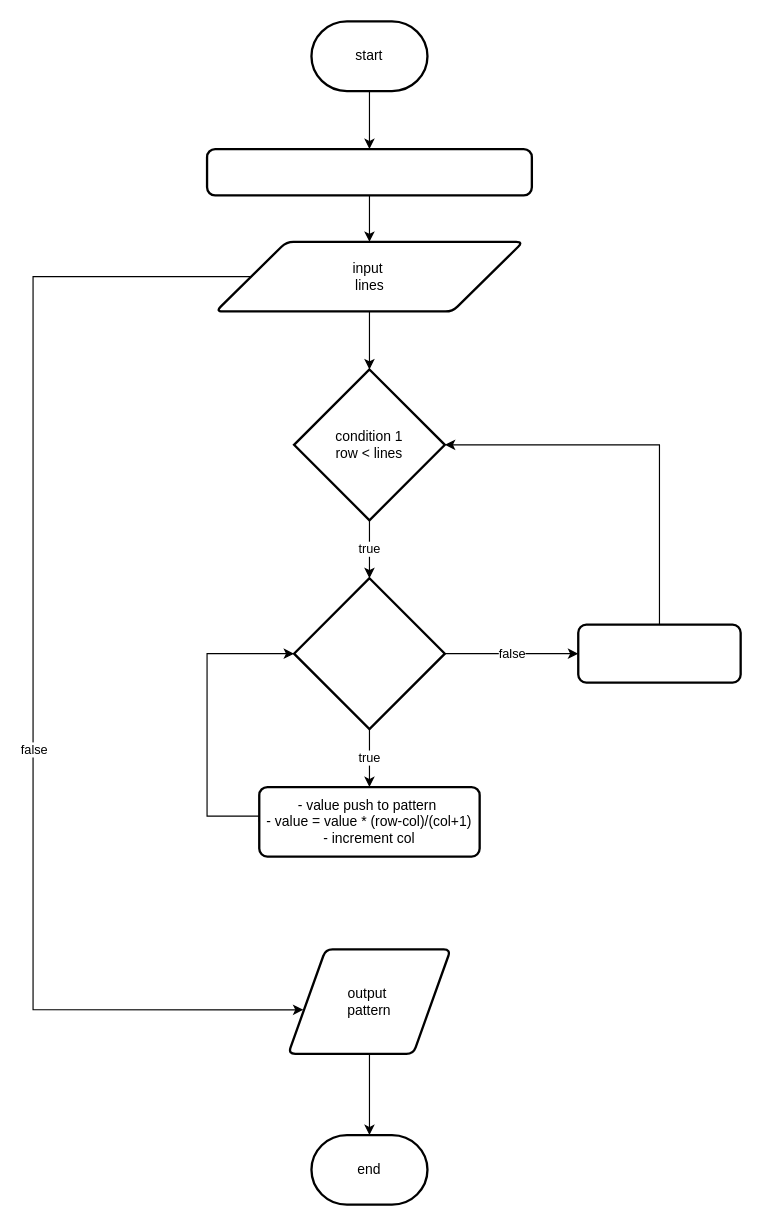
The diagram is 761 pixels wide and 1225 high, and some of its shapes have lost their labels. Each missing label, with the box of its shape:
- "<br>" push to pattern -increment counter: (577, 623, 741, 683)
condition 2 col <= row: (292, 577, 445, 730)
initialization lines, value=1,col =0,row = 0, pattern =[];: (205, 147, 532, 196)
